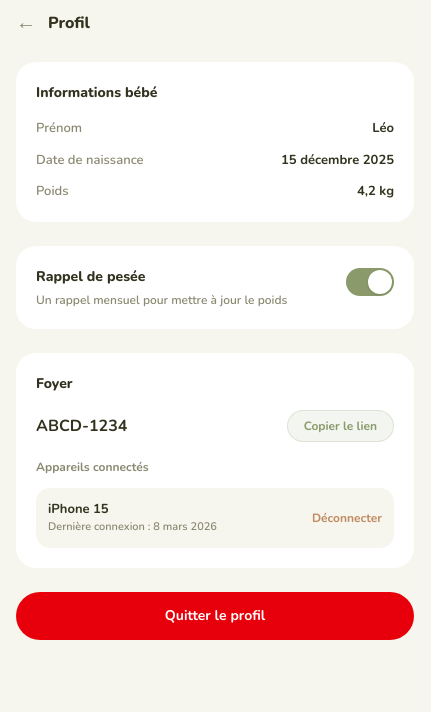
Test case: ProfileScreen › tap date → scroll wheels visibles
# Find the date text button
What coordinates should you click on to do the following:
click the button "15 décembre 2025"
I would click on:
 (338, 160)
Its box is left=281, top=150, right=394, bottom=170.
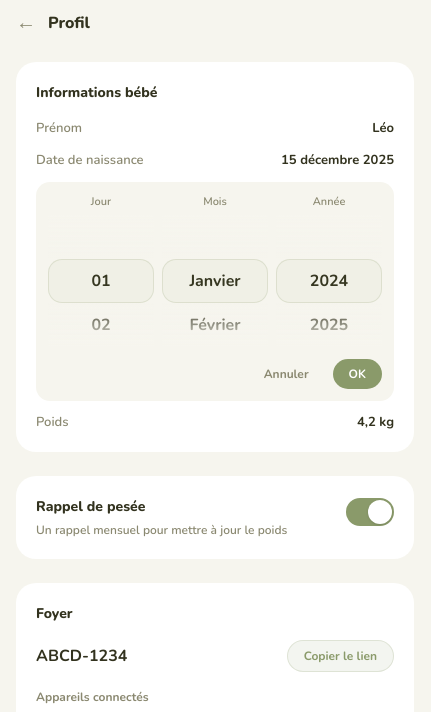
Check: the button "OK" is shown, box left=333, top=358, right=382, bottom=388
Check: the button "Annuler" is shown, box left=248, top=358, right=325, bottom=388
